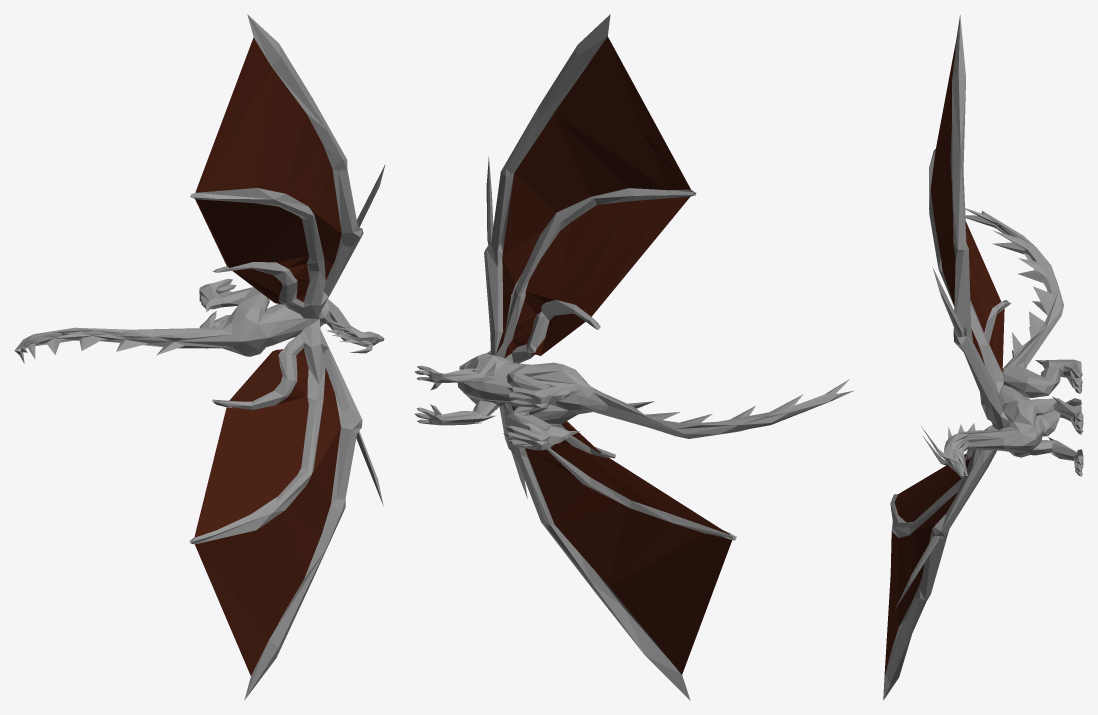
The model's file is Dragon_2.5_For_Animations_000457.obj.
The picture shows the model from 3 angles, left to right: view 1: azimuth 30°, elevation 25°; view 2: azimuth 150°, elevation 25°; view 3: azimuth 270°, elevation 25°; orthographic projection. The views are drawn at different scales.
Parts seen in each view (by area): view 1: Cube_Cube.004; view 2: Cube_Cube.004; view 3: Cube_Cube.004.
Part boxes in pixels (x1,y1,x2,y2): Cube_Cube.004: (14,14,385,700); Cube_Cube.004: (414,14,853,700); Cube_Cube.004: (883,15,1083,700).
Bounding box in the file's own units: 87.75 × 151 × 38.76.
